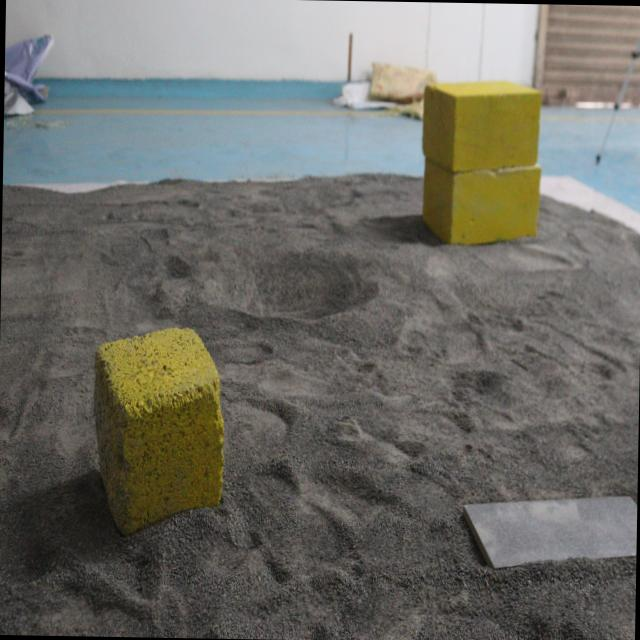box: (91, 322, 235, 530), (413, 69, 548, 256)
crater: (180, 242, 381, 346)
